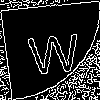W: (25, 24, 83, 76)
